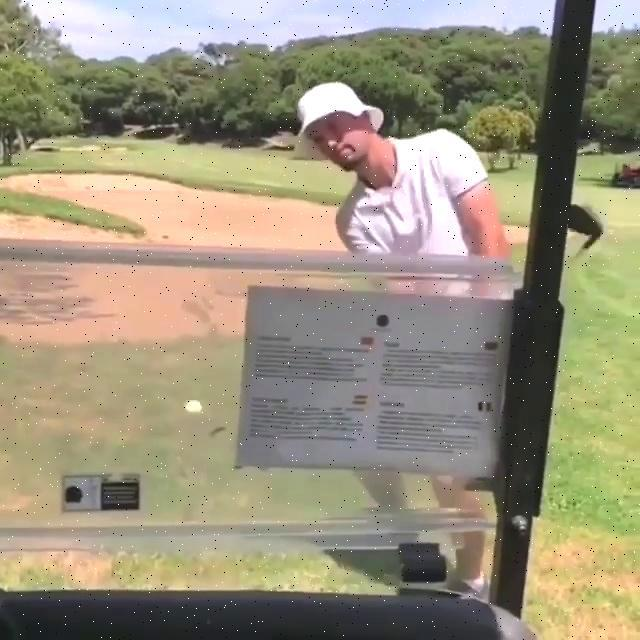golf ball: (183, 401, 202, 416)
golf club-handle: (564, 202, 607, 275)
golf club-head: (565, 204, 599, 235)
